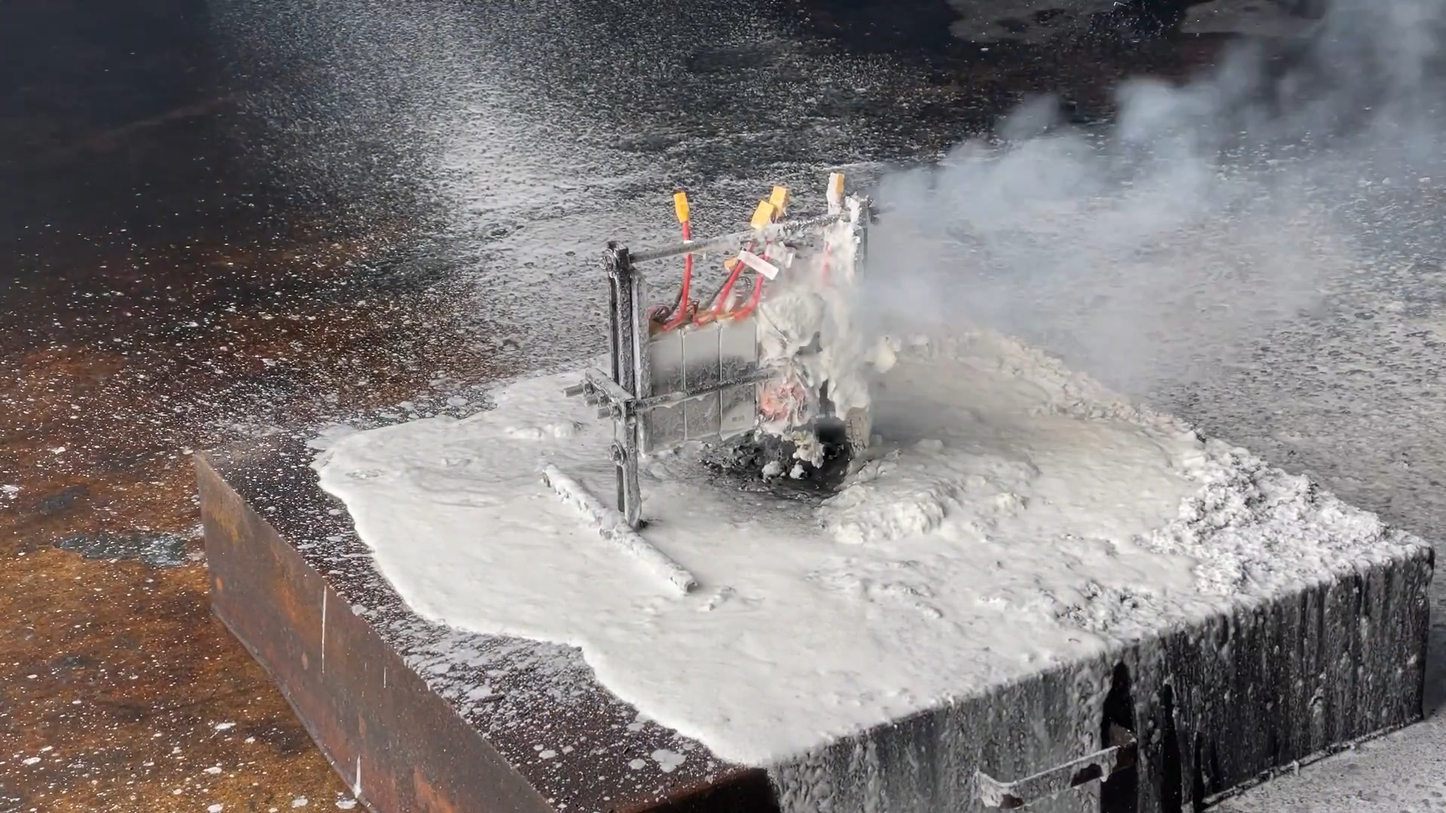smoke: (822, 1, 1445, 416)
